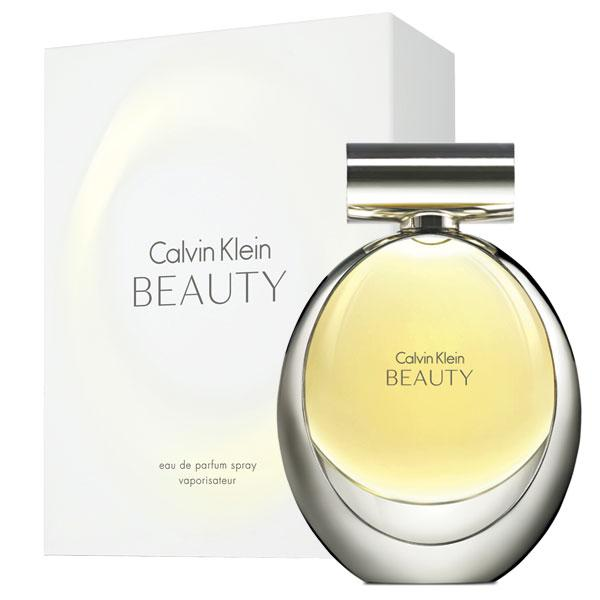Calvin Klein: (141, 228, 291, 271), (382, 343, 477, 370)
